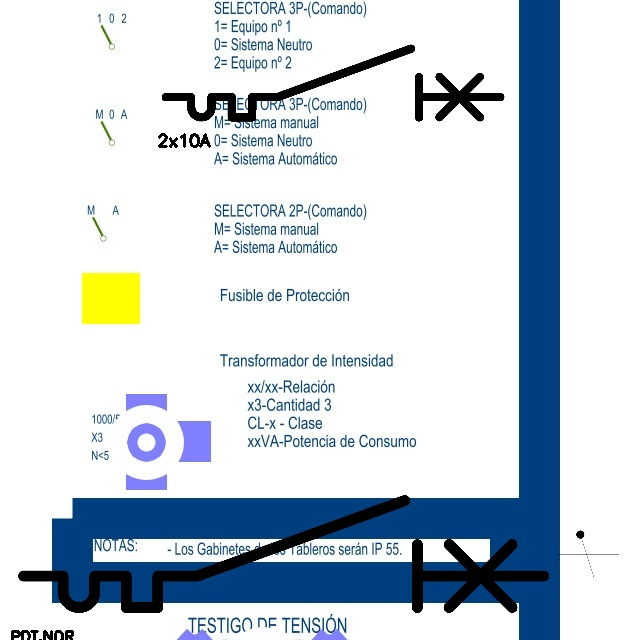interruptor_termomagnetico: (10, 487, 557, 621), (157, 40, 509, 126)
